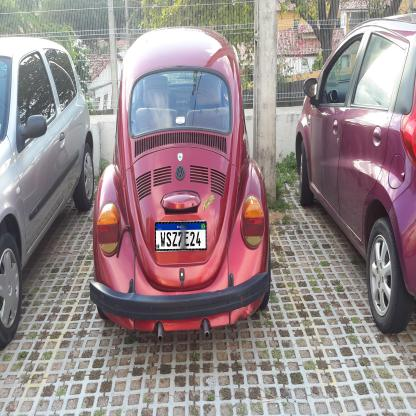PlacaM: (155, 221, 207, 251)
